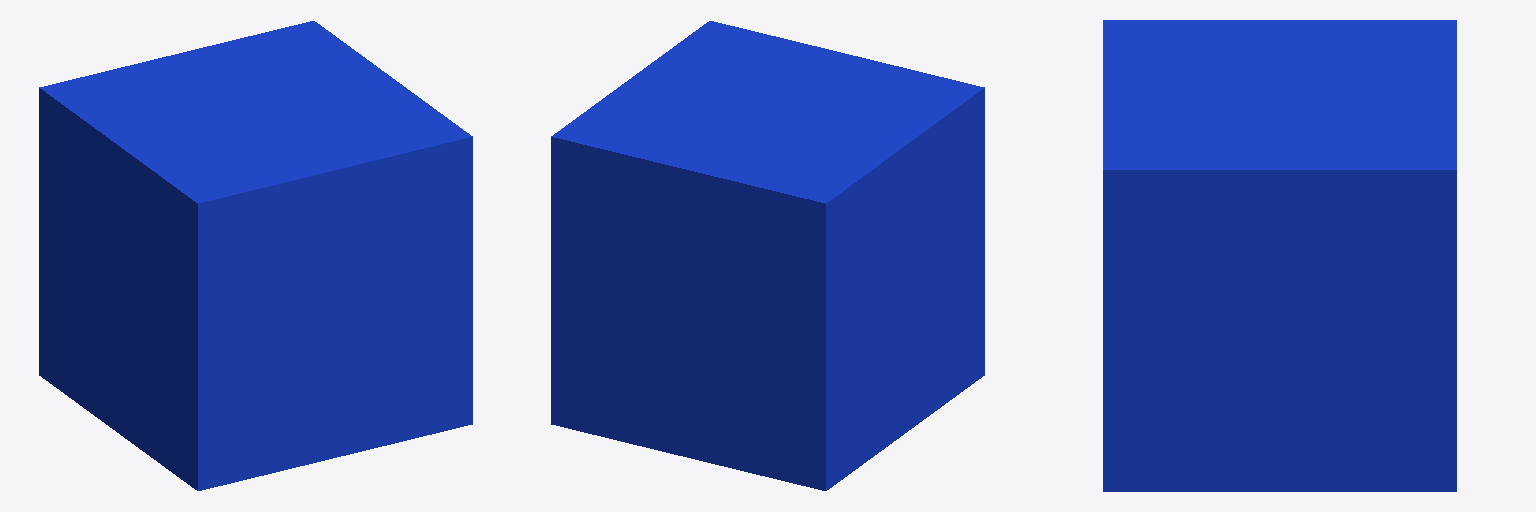
URDF robot description (blue_cube):
<?xml version="1.0"?>
<robot name="blue_cube">
  <link name="base_link">
    <contact>
      <lateral_friction value="0.9"/>
      <rolling_friction value="0.03"/>
      <spinning_friction value="0.03"/>
      <restitution value="0.0"/>
    </contact>
    <inertial>
      <origin rpy="0 0 0" xyz="0 0 0"/>
      <mass value="0.5"/>
      <inertia ixx="0.001" ixy="0" ixz="0" iyy="0.001" iyz="0" izz="0.001"/>
    </inertial>
    <visual>
      <origin rpy="0 0 0" xyz="0 0 0"/>
      <geometry>
        <box size="0.12 0.12 0.12"/>
      </geometry>
      <material name="blue">
        <color rgba="0.150 0.320 0.880 1.000"/>
      </material>
    </visual>
    <collision>
      <origin rpy="0 0 0" xyz="0 0 0"/>
      <geometry>
        <box size="0.12 0.12 0.12"/>
      </geometry>
    </collision>
  </link>
</robot>

--- Facts derived from the render (not from the file) ---
Views: 3 orthographic renders of the robot side by side, from view 1: azimuth 30°, elevation 25°; view 2: azimuth 150°, elevation 25°; view 3: azimuth 270°, elevation 25°.
Robot: blue_cube — 1 links, 0 joints (none); root link base_link; default pose: all joints at 0.
Links seen in each view (by area): view 1: base_link; view 2: base_link; view 3: base_link.
Boxes of the visible links, x1,y1,x2,y2 form: base_link: (39,21,472,490); base_link: (551,21,984,490); base_link: (1103,20,1456,491).
Bounding box of the posed robot: 0.12 × 0.12 × 0.12 m (x, y, z).
Geometry: primitives only (box / cylinder / sphere), no mesh files.
